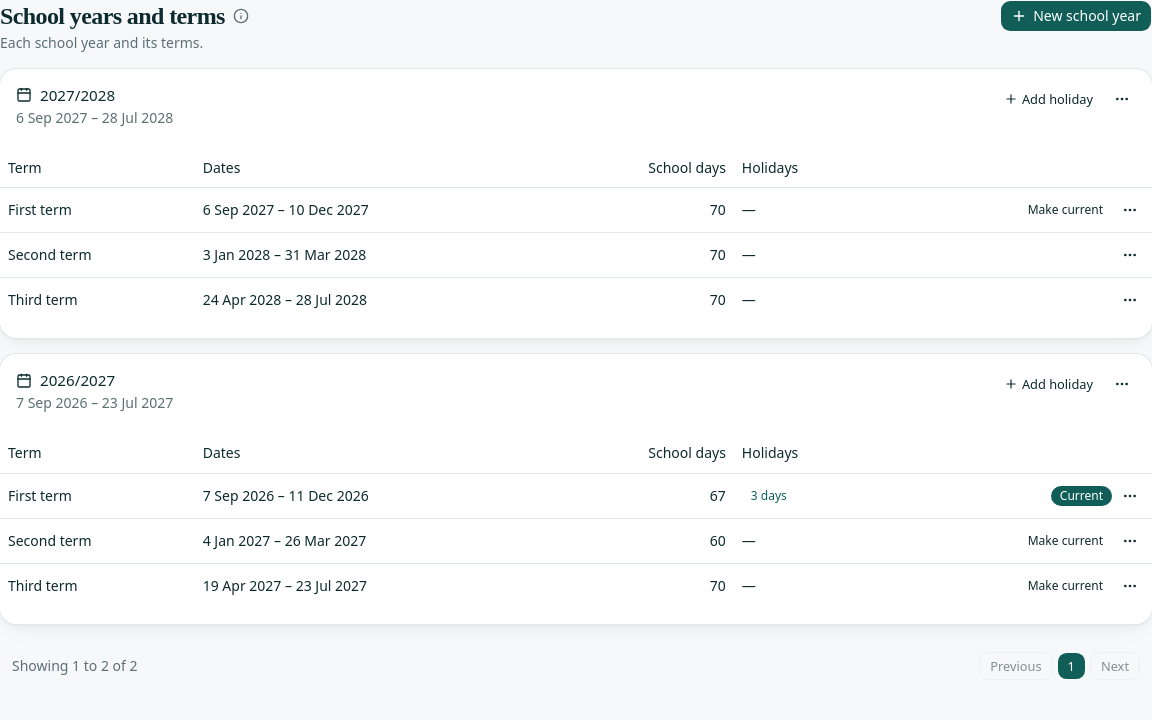
it: CalendarPage › keeps the holiday when the removal is cancelled
Click the button "3 days".
click(769, 496)  # box 742,484 -> 796,508
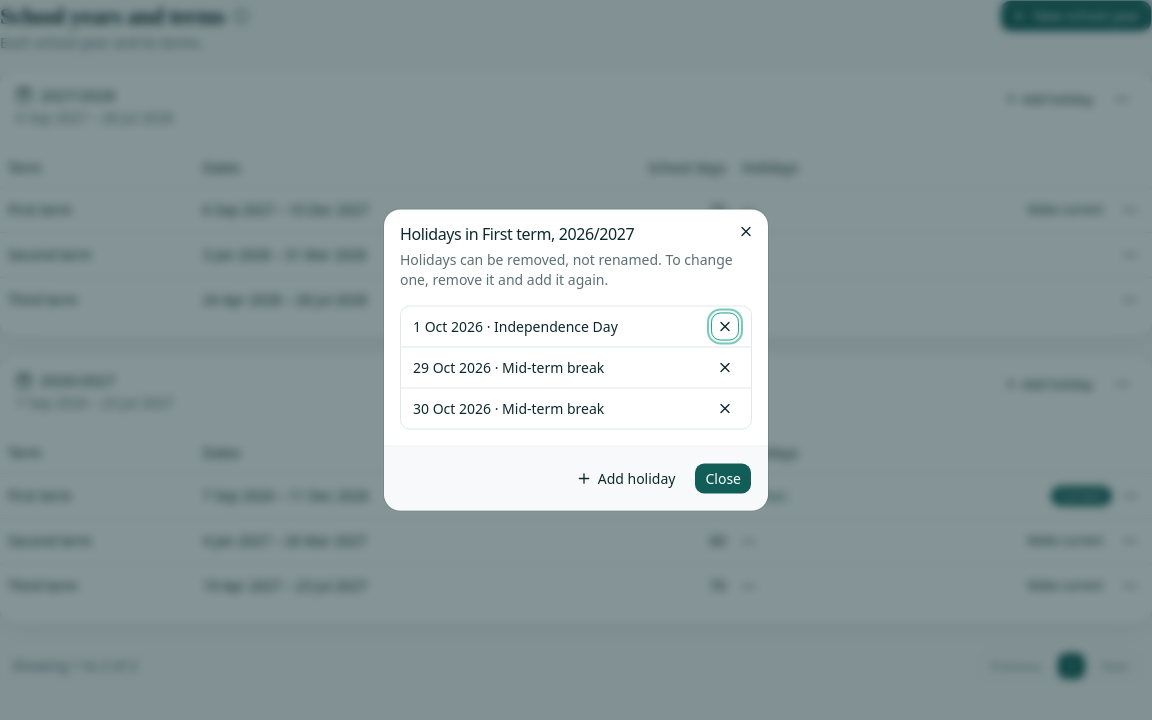
Click the button named "Remove Mid-term break, 29 Oct 2026".
click(725, 368)  # box 711,354 -> 739,382
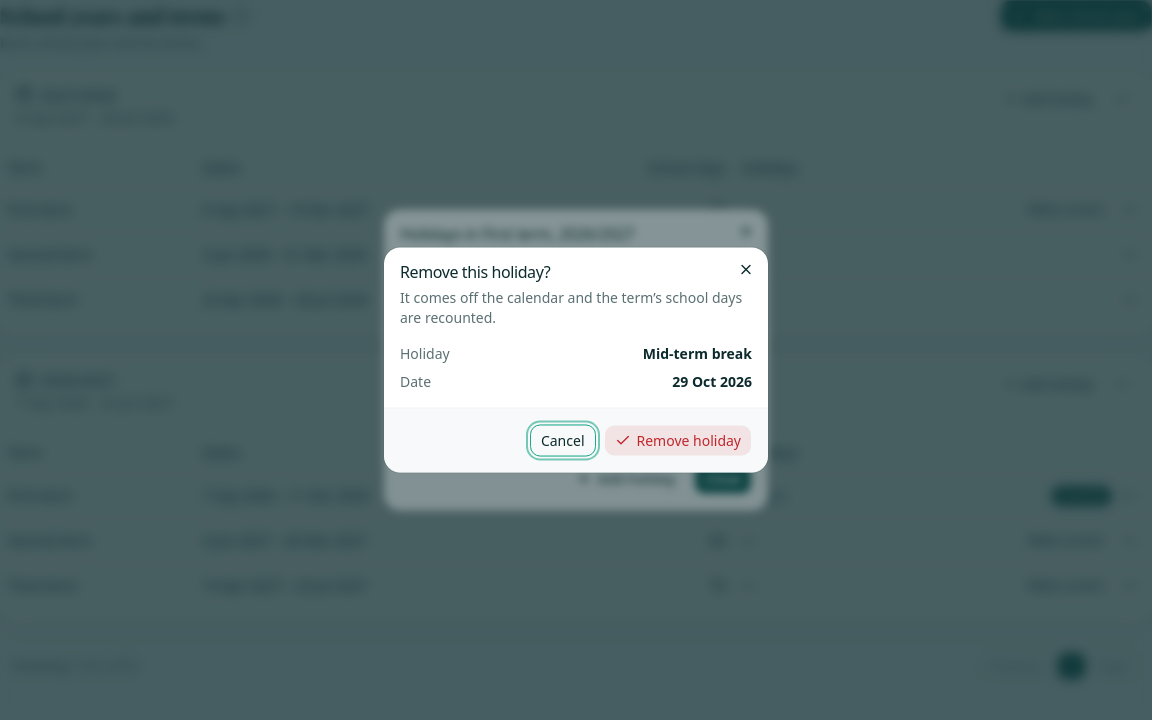
Click the button "Cancel".
click(563, 440)  # box 530,424 -> 596,456
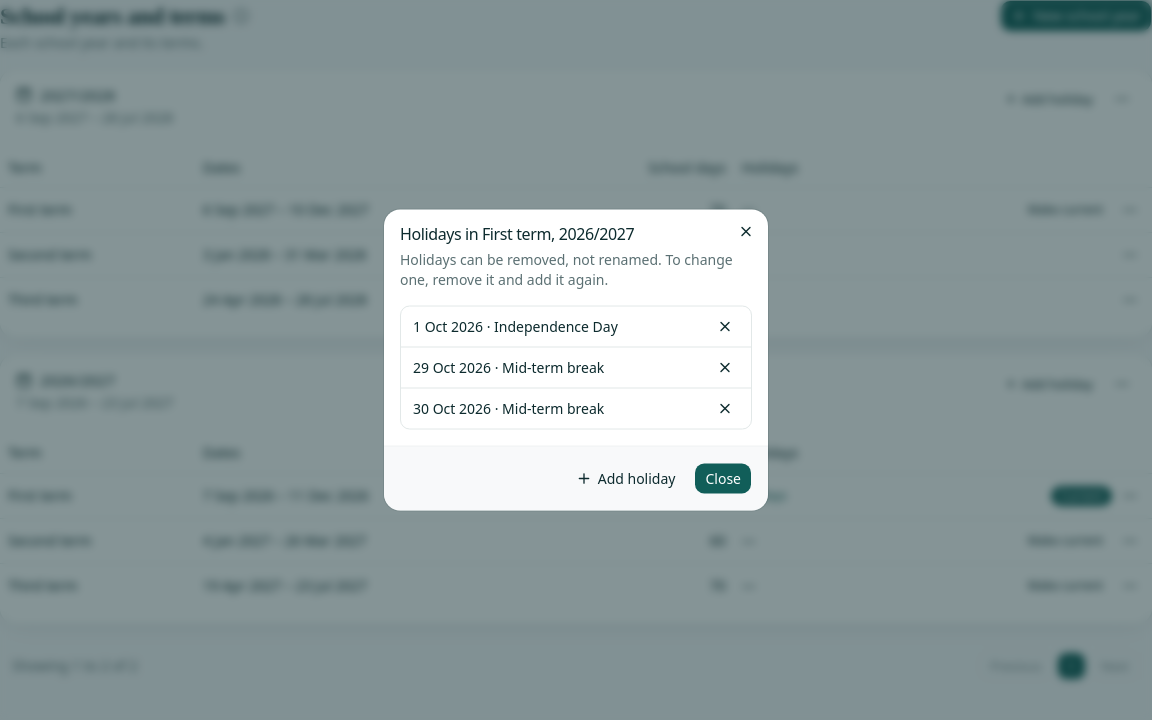
Expected: the heading "Remove this holiday?" is gone
